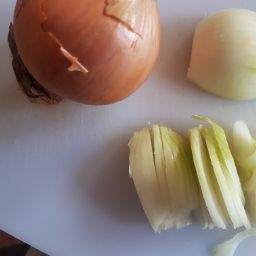Medium chopped onions: (7, 1, 167, 114), (117, 120, 256, 250), (188, 11, 256, 103)
